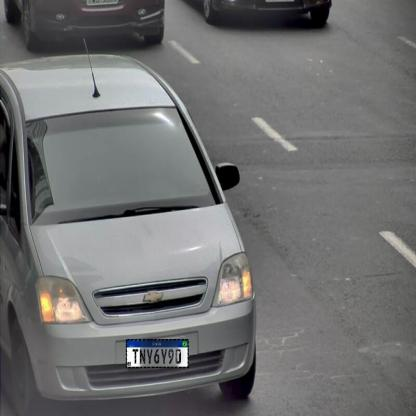PlacaM: (126, 339, 189, 368)
